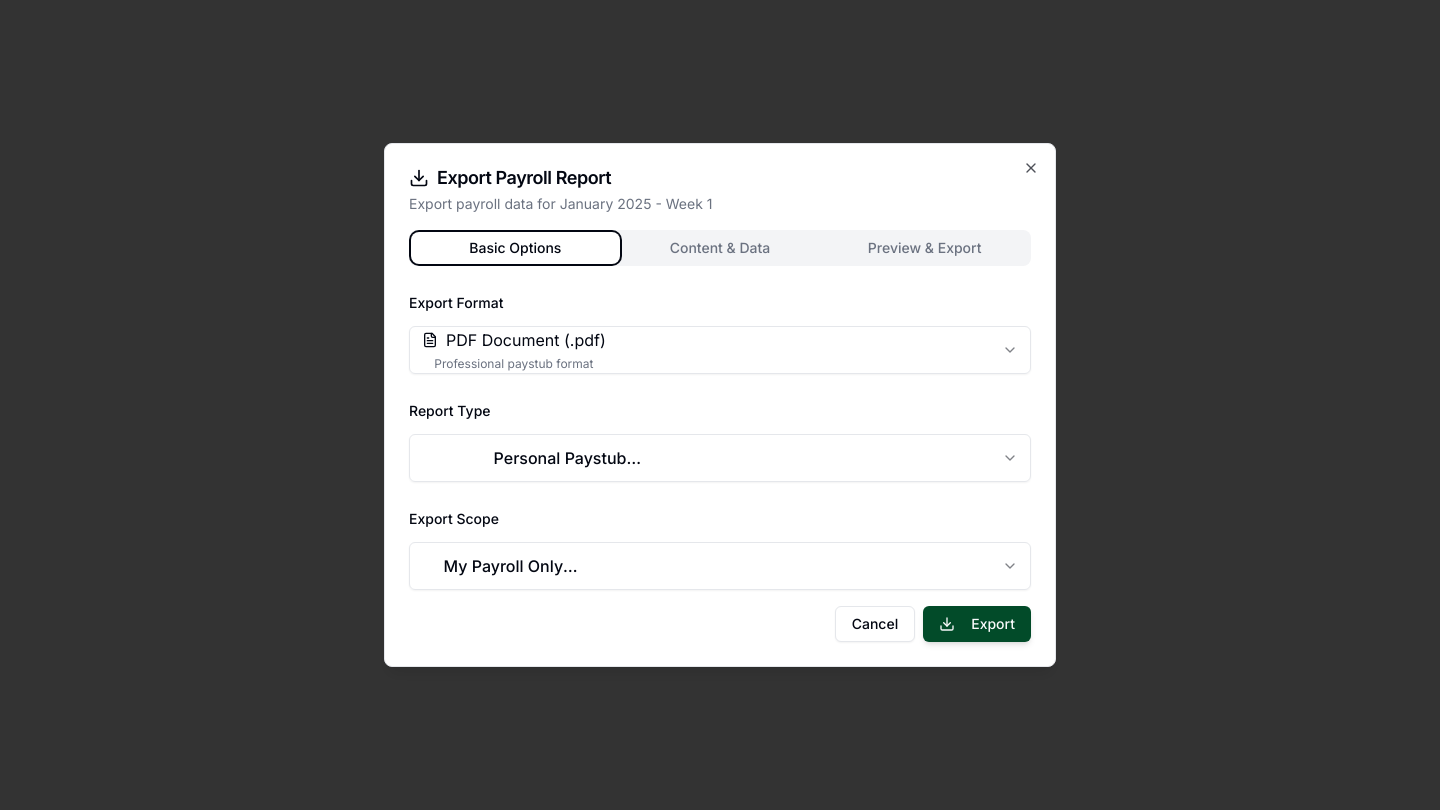
it: PayrollExportDialog › shows content options in the second tab
Click on Content & Data tab
Step 1. Click the tab "Content & Data" → (720,248), box [618, 234, 822, 262]
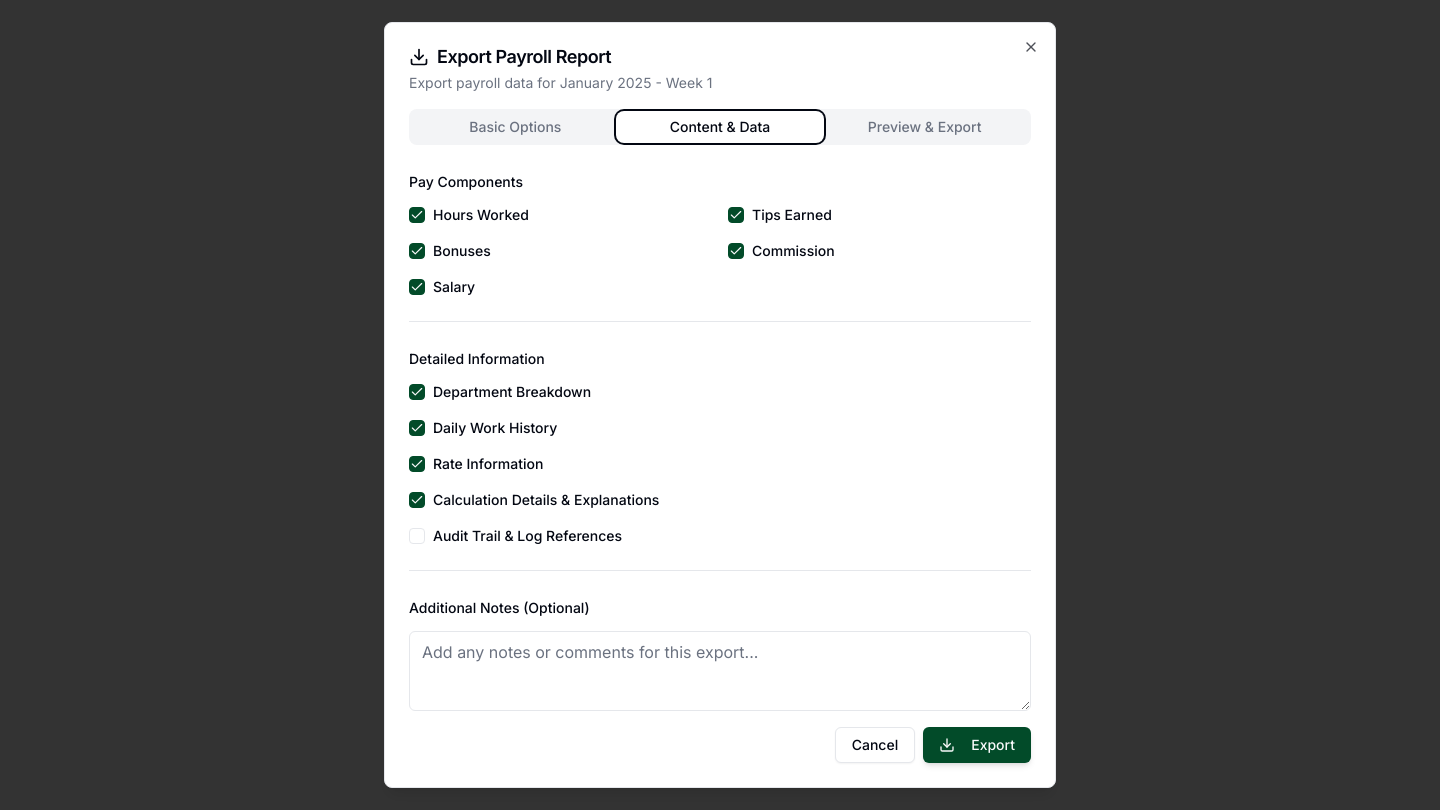
Now the text "Pay Components" is shown, box [409, 173, 523, 190]
Now the text "Detailed Information" is shown, box [409, 350, 545, 367]
Now the checkbox named "Hours Worked" next to "Hours Worked" is shown, box [409, 207, 425, 223]
